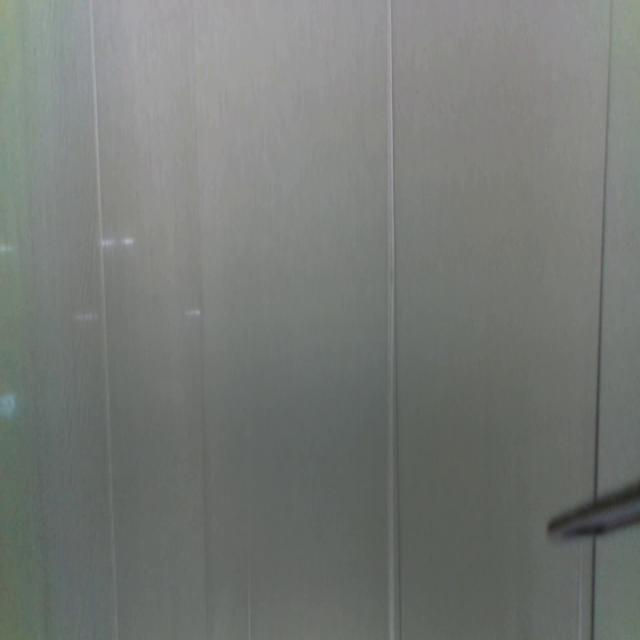crease: (90, 1, 120, 640), (188, 33, 212, 639), (591, 1, 613, 486), (387, 1, 402, 634), (588, 536, 597, 640), (577, 538, 585, 638), (247, 545, 254, 640)
